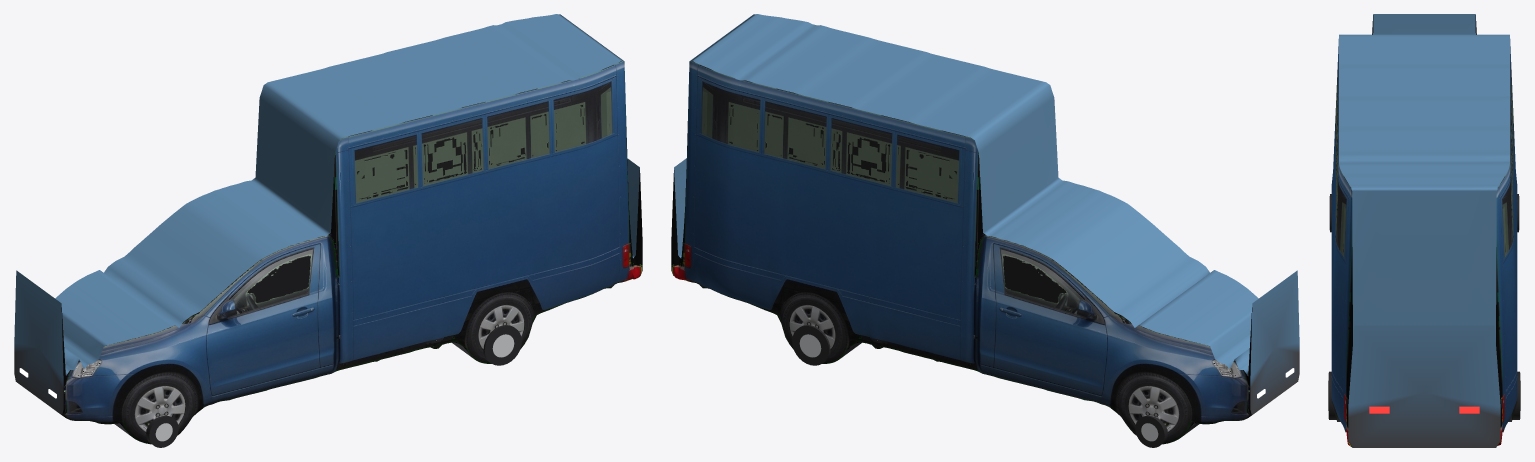
Rendered from truck.glb.
The picture shows the model from 3 angles, left to right: view 1: azimuth 30°, elevation 25°; view 2: azimuth 150°, elevation 25°; view 3: azimuth 270°, elevation 25°; orthographic projection. The views are drawn at different scales.
Visible parts, largest first — view 1: truck; view 2: truck; view 3: truck.
Boxes of the visible parts, x1=… form: truck: x1=14, y1=14, x2=642, y2=447; truck: x1=671, y1=14, x2=1299, y2=447; truck: x1=1328, y1=14, x2=1520, y2=447.
Size of the model in its own units: 6.93 by 3.07 by 1.78.
Materials: 8 (2 with a texture image).
